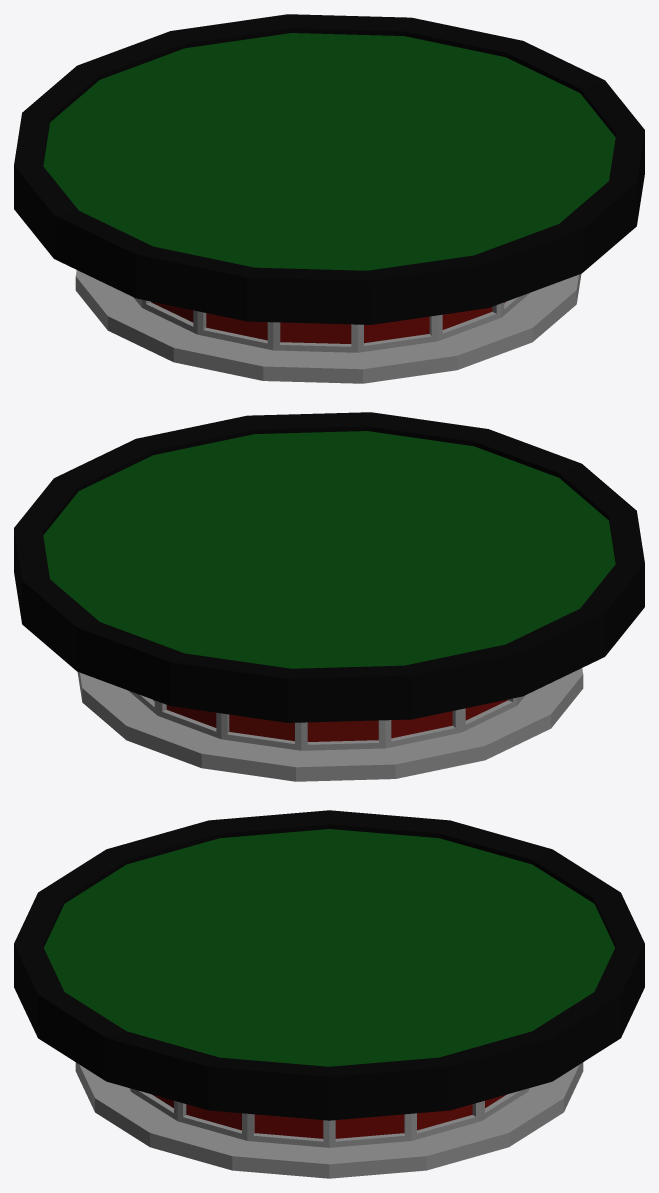
Rendered from poker table.fbx.
3 renders of one model, top to bottom at view 1: azimuth 30°, elevation 25°; view 2: azimuth 150°, elevation 25°; view 3: azimuth 270°, elevation 25°, orthographic.
Visible parts, largest first — view 1: Cylinder; view 2: Cylinder; view 3: Cylinder.
Boxes of the visible parts, x1,y1,x2,y2 form: Cylinder: (14,14,644,383); Cylinder: (14,412,644,781); Cylinder: (14,810,644,1178).
Size of the model in its own units: 995 by 222 by 995.
